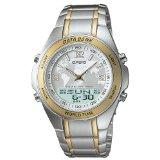watch: (29, 32, 135, 124)
